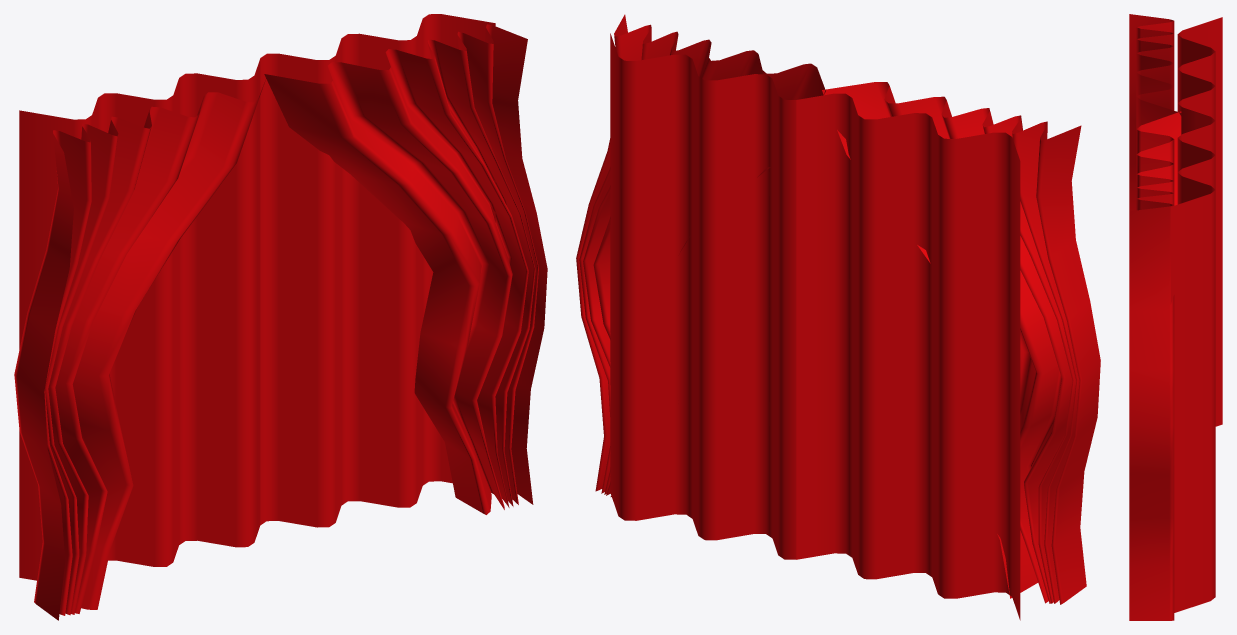
The model's file is perde_1.fbx.
The picture shows the model from 3 angles, left to right: view 1: azimuth 30°, elevation 25°; view 2: azimuth 150°, elevation 25°; view 3: azimuth 270°, elevation 25°; orthographic projection. The views are drawn at different scales.
Visible parts, largest first — view 1: Plane.003, Plane.004, Plane.001, Plane.005; view 2: Plane.001, Plane.004, Plane.005, Plane.003; view 3: Plane.003, Plane.004, Plane.001, Plane.005.
Part boxes in pixels (x1,y1,x2,y2): Plane.003: (264,24,547,514); Plane.004: (260,14,495,527); Plane.001: (19,59,260,580); Plane.005: (14,78,266,620); Plane.001: (796,93,1020,620); Plane.004: (610,33,796,559); Plane.005: (822,82,1100,604); Plane.003: (576,14,825,496); Plane.003: (1129,111,1181,620); Plane.004: (1170,117,1215,612); Plane.001: (1177,17,1222,426); Plane.005: (1129,14,1181,211).
Size of the model in its own units: 23.84 by 20.95 by 4.32.
